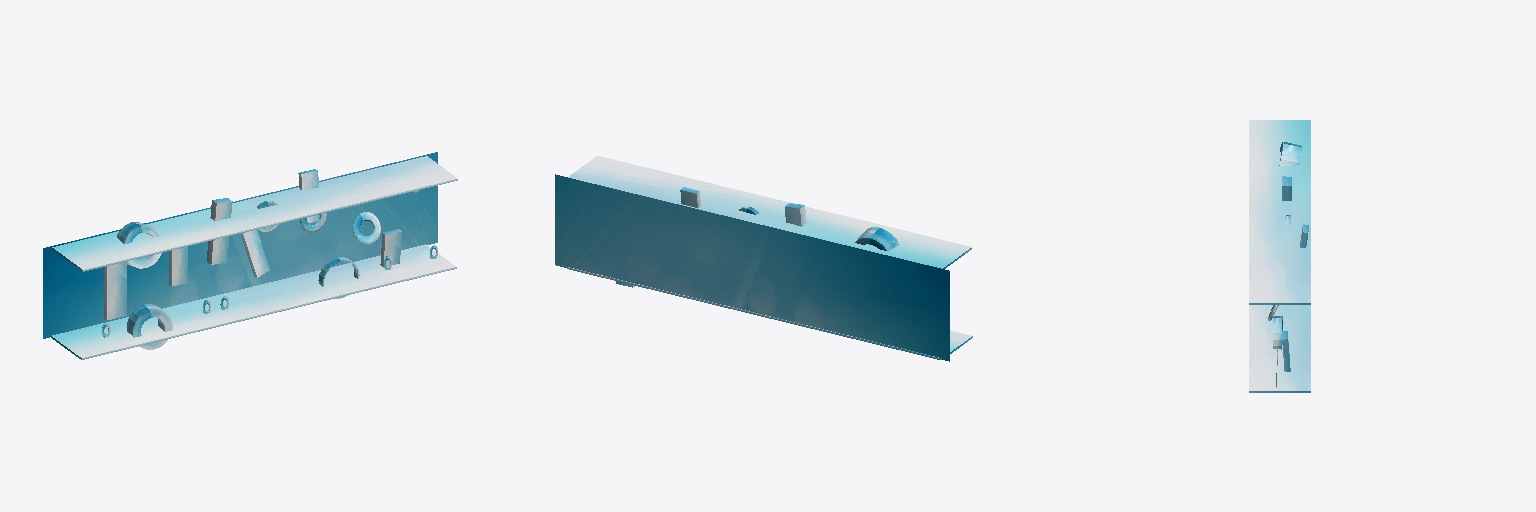
3 renders of one model, left to right at view 1: azimuth 30°, elevation 25°; view 2: azimuth 150°, elevation 25°; view 3: azimuth 270°, elevation 25°, orthographic.
Visible parts, largest first — view 1: room5:initialShadingGroup room5:polySurface58 room5:polySurface1; view 2: room5:initialShadingGroup room5:polySurface58 room5:polySurface1; view 3: room5:initialShadingGroup room5:polySurface58 room5:polySurface1.
Boxes of the visible parts, x1,y1,x2,y2 form: room5:initialShadingGroup room5:polySurface58 room5:polySurface1: [43, 152, 457, 359]; room5:initialShadingGroup room5:polySurface58 room5:polySurface1: [555, 156, 972, 361]; room5:initialShadingGroup room5:polySurface58 room5:polySurface1: [1249, 120, 1310, 392].
Bounding box in the file's own units: 172 × 50.7 × 23.68.
Materials: 1 (1 with a texture image).